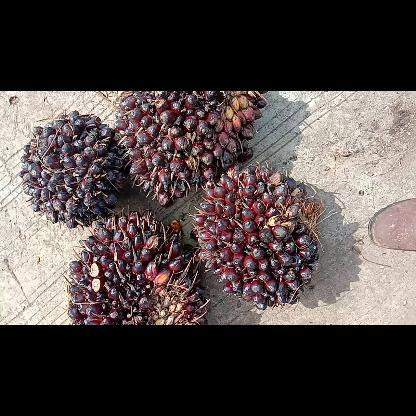TBS mentah: (188, 164, 320, 310), (112, 91, 268, 207), (64, 206, 214, 324), (15, 110, 130, 228)
